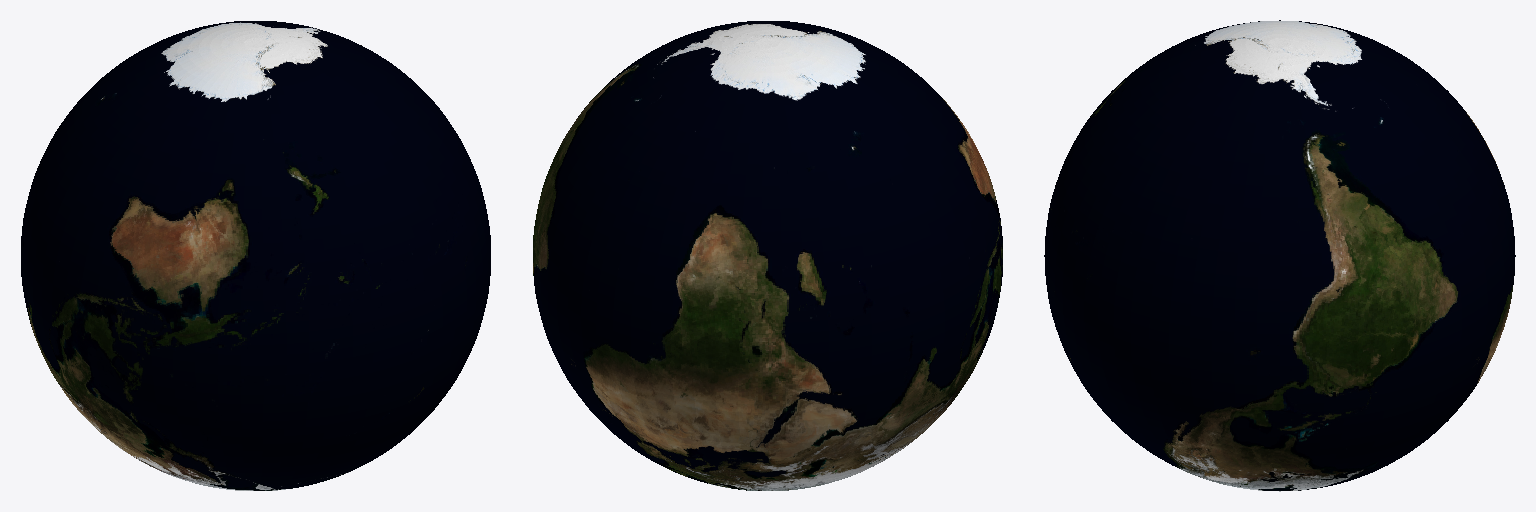
3 views of the same model, side by side, from view 1: azimuth 30°, elevation 25°; view 2: azimuth 150°, elevation 25°; view 3: azimuth 270°, elevation 25° (orthographic).
Visible parts, largest first — view 1: Sphere; view 2: Sphere; view 3: Sphere.
Part boxes in pixels (x1,y1,x2,y2): Sphere: (21,21,490,490); Sphere: (533,21,1002,490); Sphere: (1044,20,1515,491).
Size of the model in its own units: 2 by 2 by 2.
Materials: 1 (1 with a texture image).